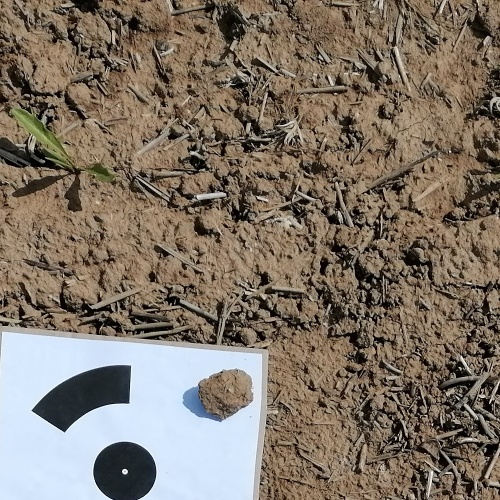beet: (11, 106, 113, 182)
